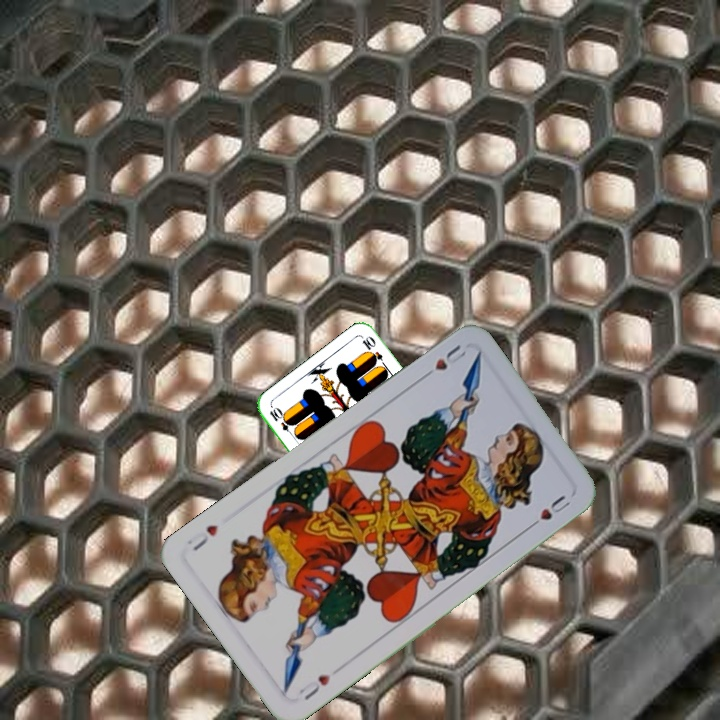E10: (265, 404, 298, 439)
HU: (417, 340, 469, 382), (294, 670, 333, 703)
